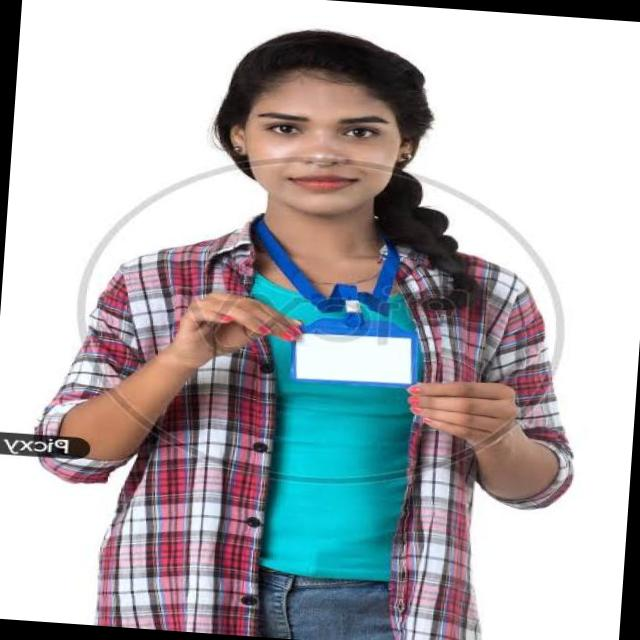id_card: (249, 200, 414, 400)
